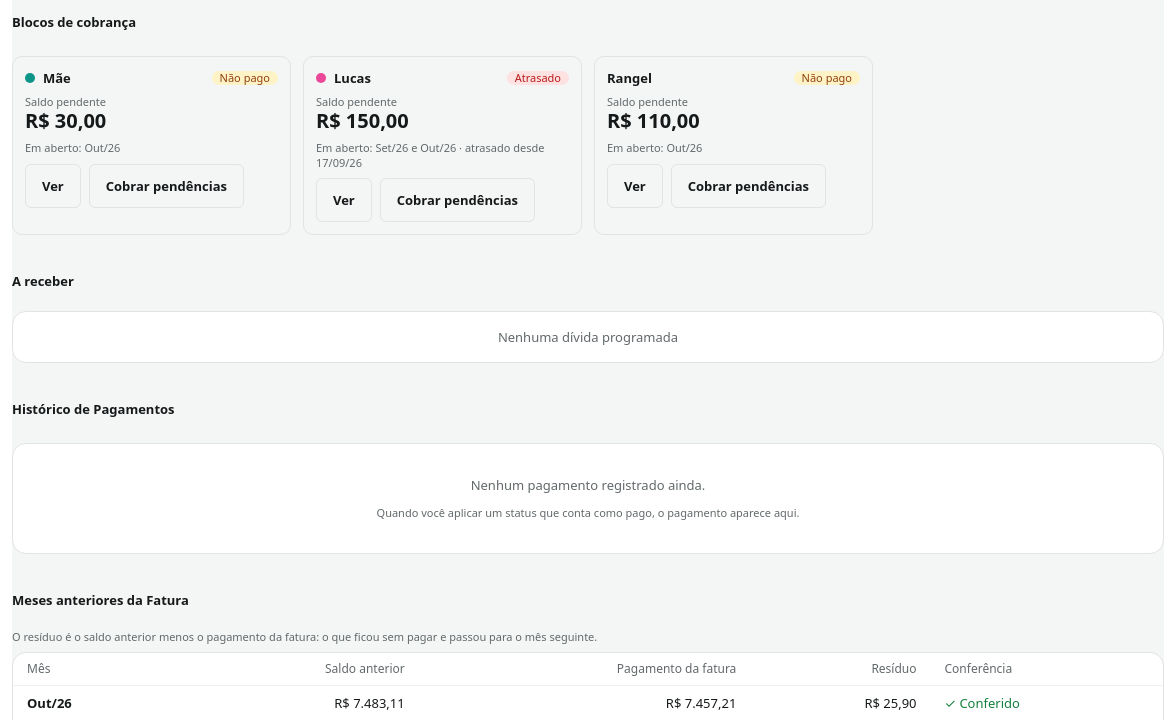
'Ver': a lista dos Lançamentos em aberto › o cartão do Bloco aberto fica marcado e o mesmo botão fecha a lista
Click the button with aria-label "Ver os lançamentos em aberto de Lucas" at (344, 200), box [316,178,372,222]
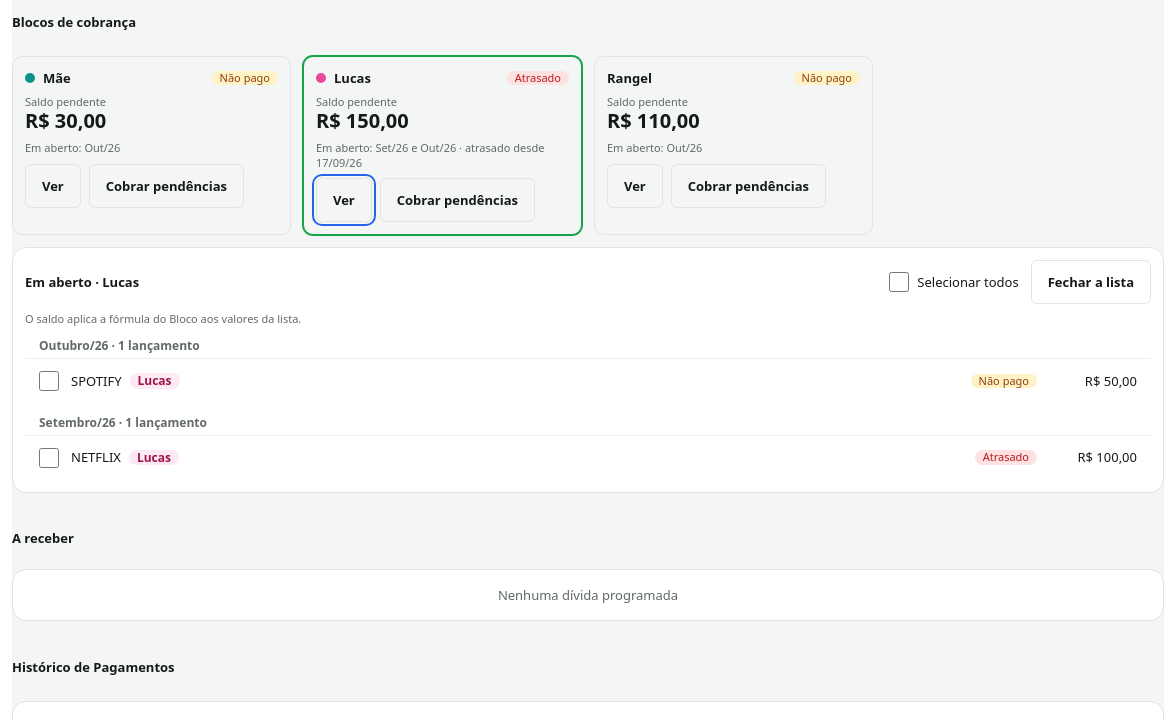
Click the button with aria-label "Ver os lançamentos em aberto de Lucas" at (344, 200), box [316,178,372,222]
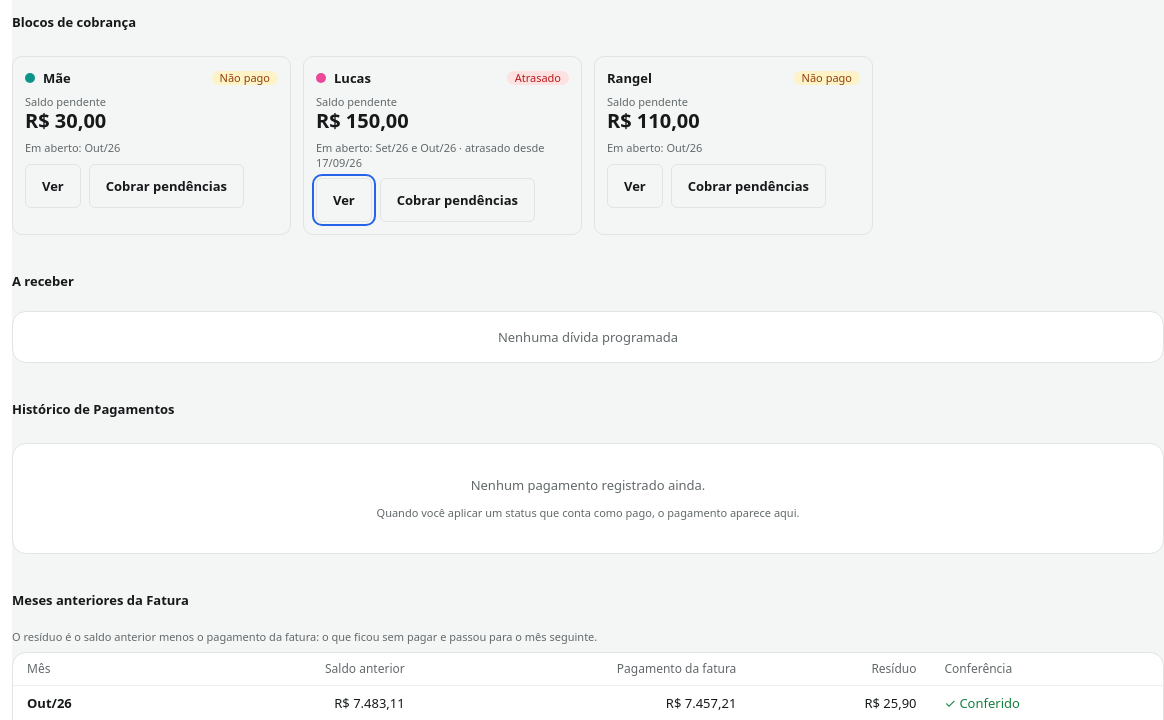
Now the heading "Em aberto · Lucas" is gone
